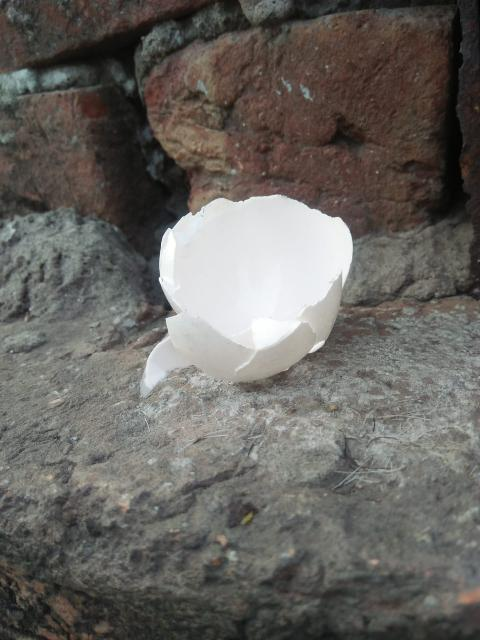Roto: (139, 192, 354, 398)
